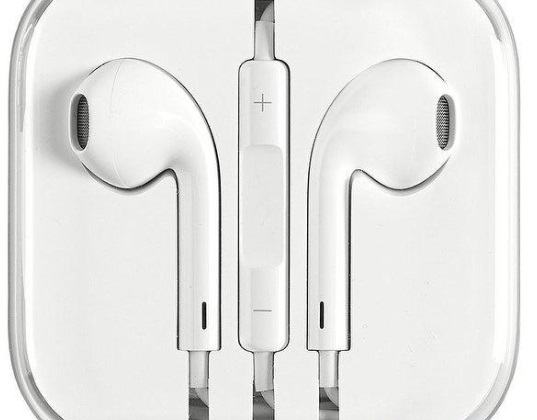White: (41, 22, 491, 416)
